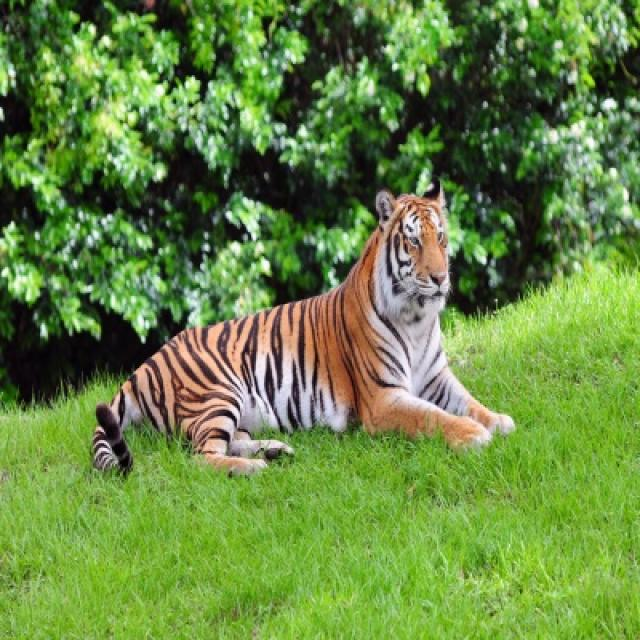Tiger: (94, 188, 515, 473)
